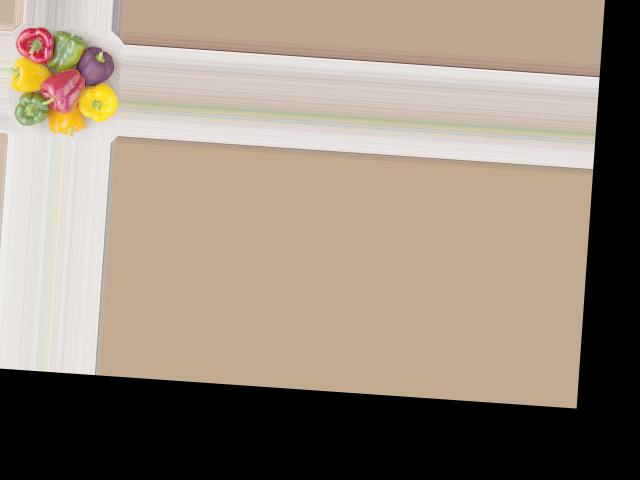bell_pepper: (68, 35, 114, 88)
